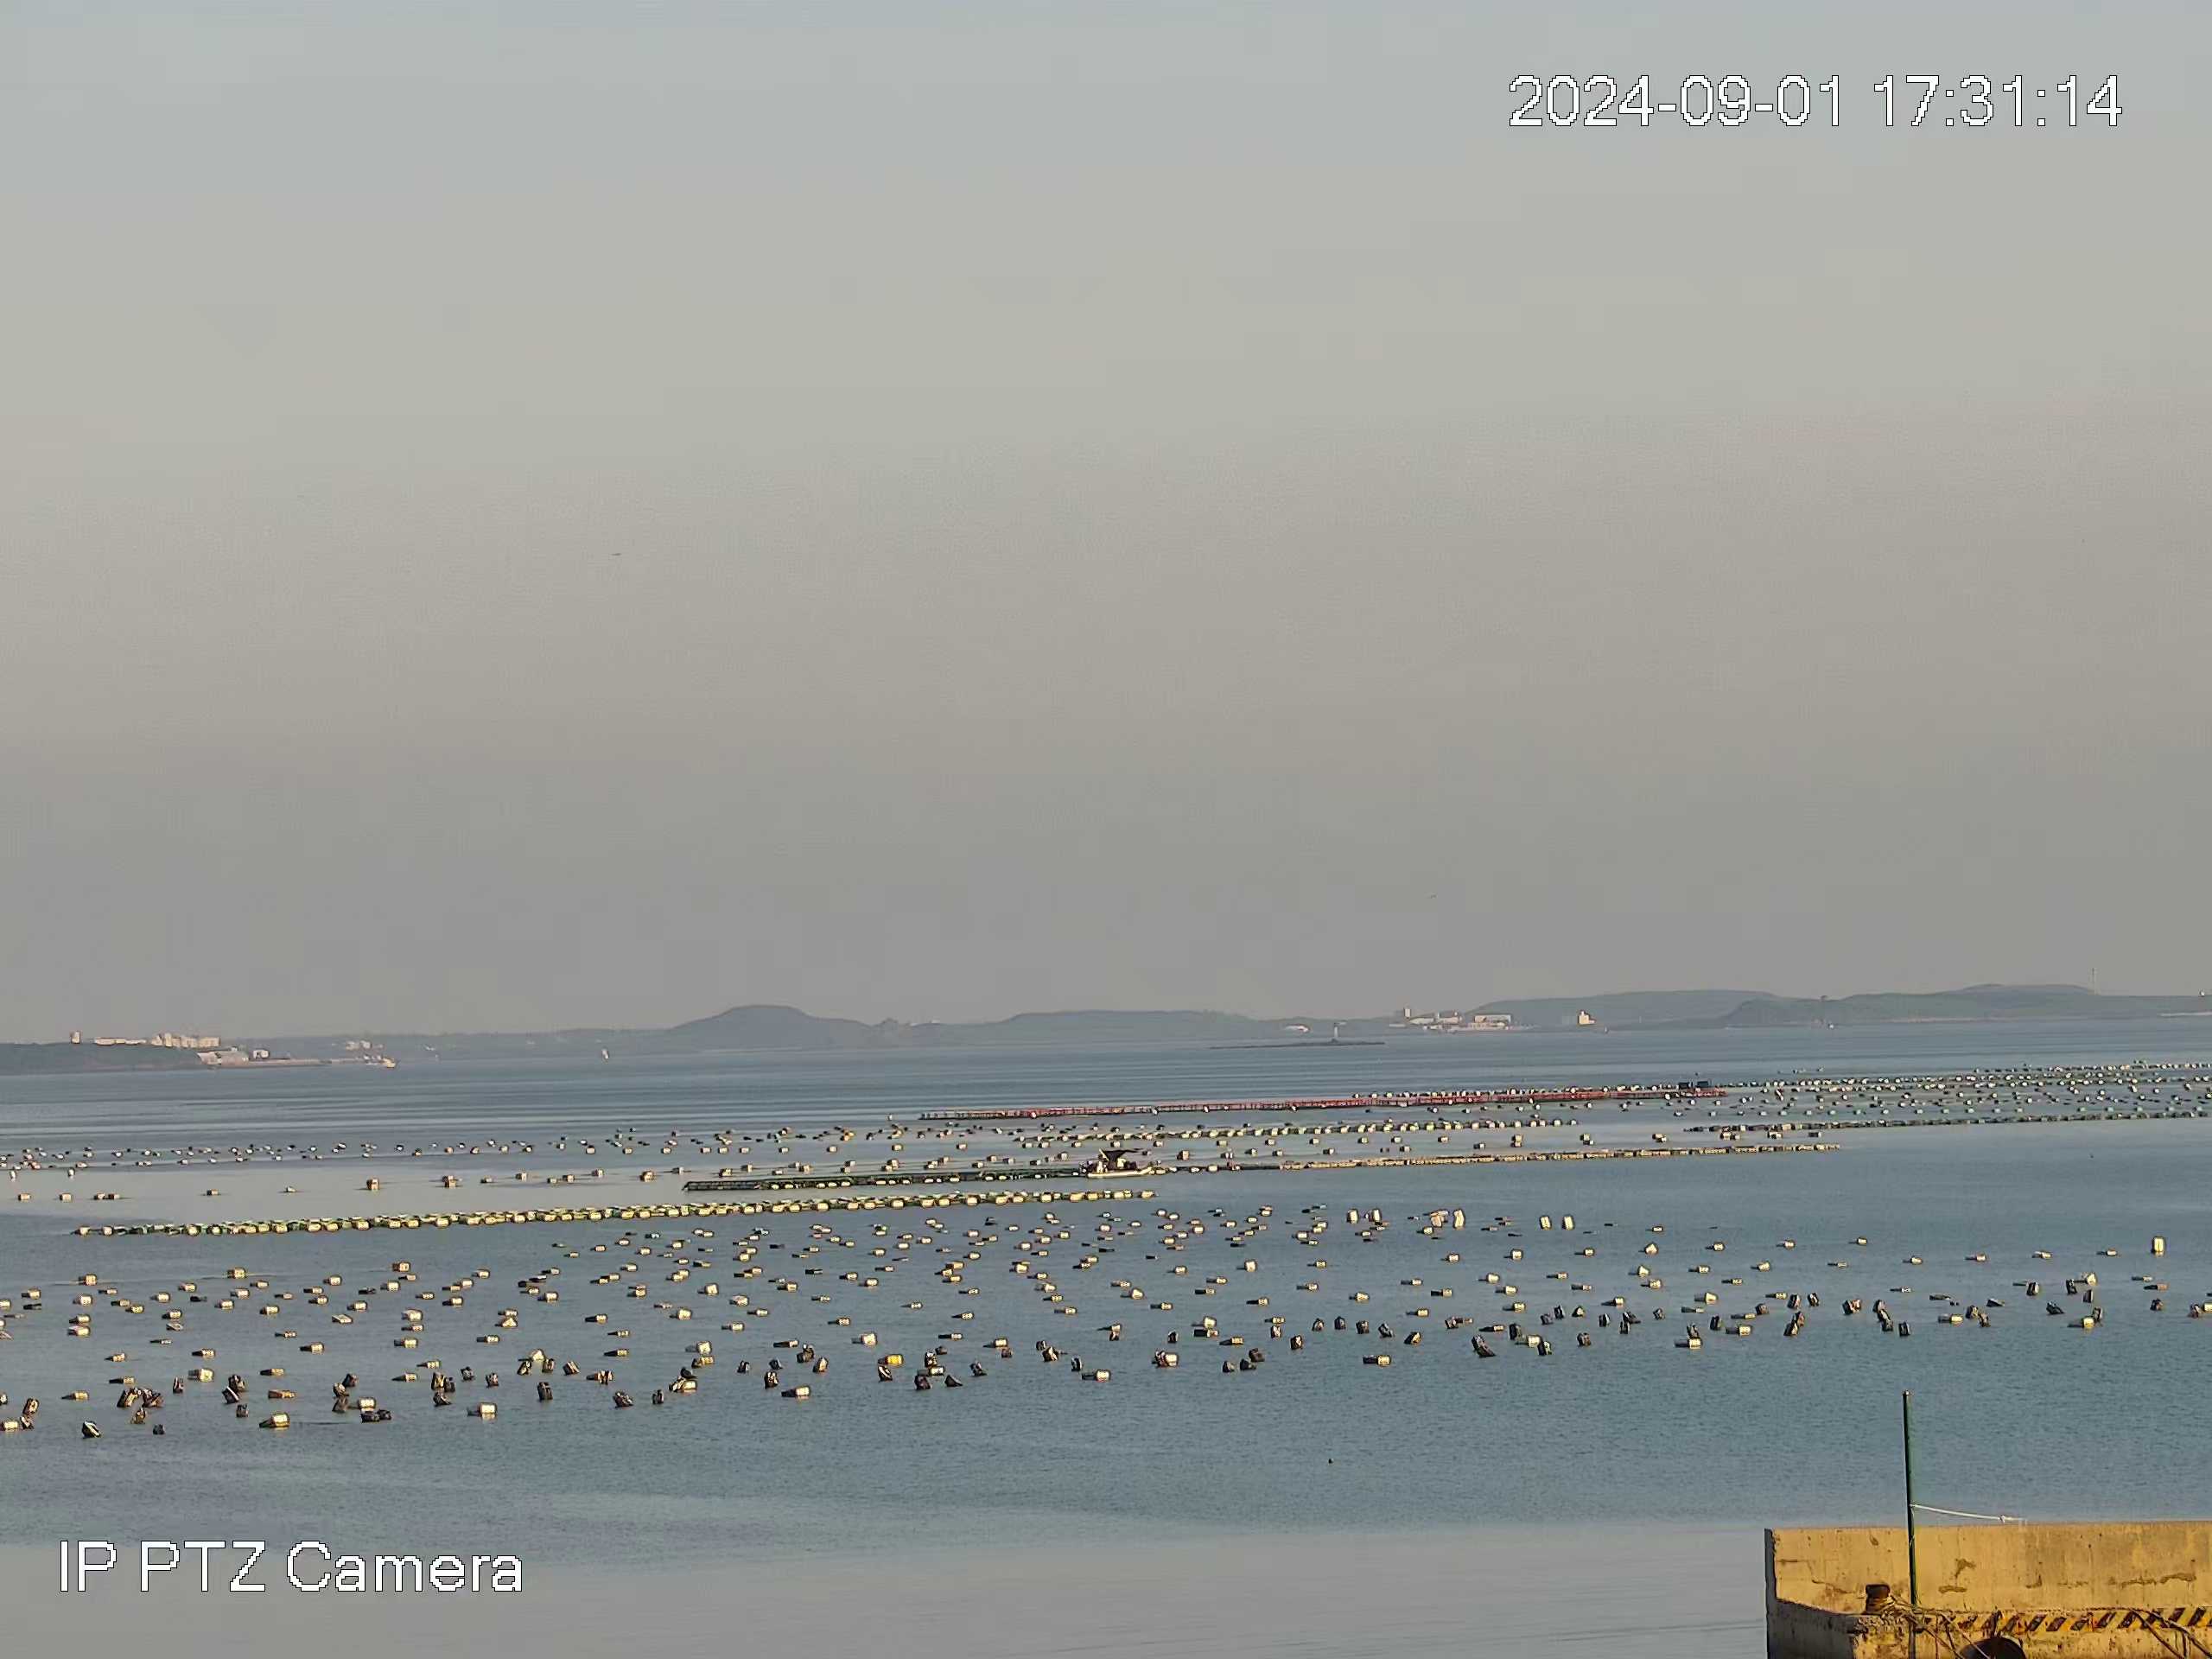boat: (1086, 1141, 1158, 1179)
